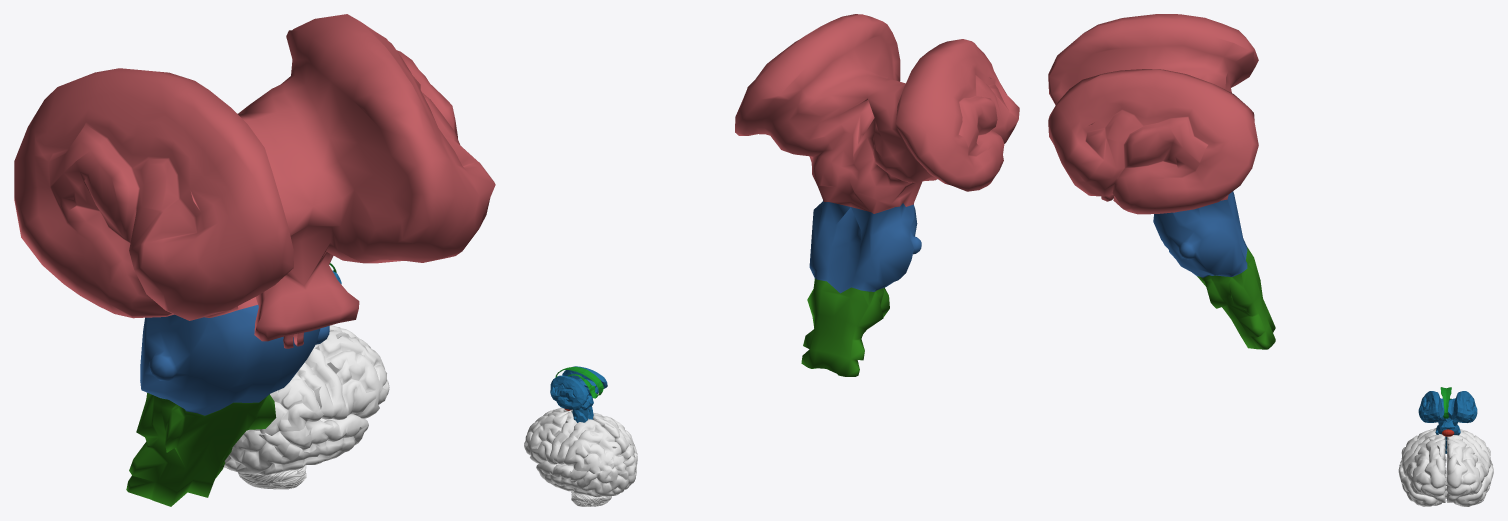
The model's file is brainstem_pitua_corpus.glb.
3 views of the same model, side by side, from view 1: azimuth 30°, elevation 25°; view 2: azimuth 150°, elevation 25°; view 3: azimuth 270°, elevation 25° (orthographic). The views are drawn at different scales.
Parts seen in each view (by area): view 1: Brain_Part_05.001, frontal, temp, pariet, occipit, cereb; view 2: Brain_Part_05.001, pariet, frontal, stem, occipit, temp; view 3: Brain_Part_05.001, frontal, stem, temp, pariet.
Part boxes in pixels (x1,y1,x2,y2): Brain_Part_05.001: (14,14,495,506); frontal: (305,325,389,419); temp: (271,414,368,474); pariet: (252,361,333,436); occipit: (224,429,289,475); cereb: (226,465,306,489); Brain_Part_05.001: (735,14,1019,376); pariet: (557,413,635,473); frontal: (524,408,588,464); stem: (550,366,607,422); occipit: (583,446,637,497); temp: (536,461,592,496); Brain_Part_05.001: (1048,14,1275,349); frontal: (1402,433,1490,502); stem: (1418,391,1477,453); temp: (1398,460,1493,506); pariet: (1401,427,1490,465).
Bounding box in the file's own units: 3.36 × 3.81 × 3.95.
